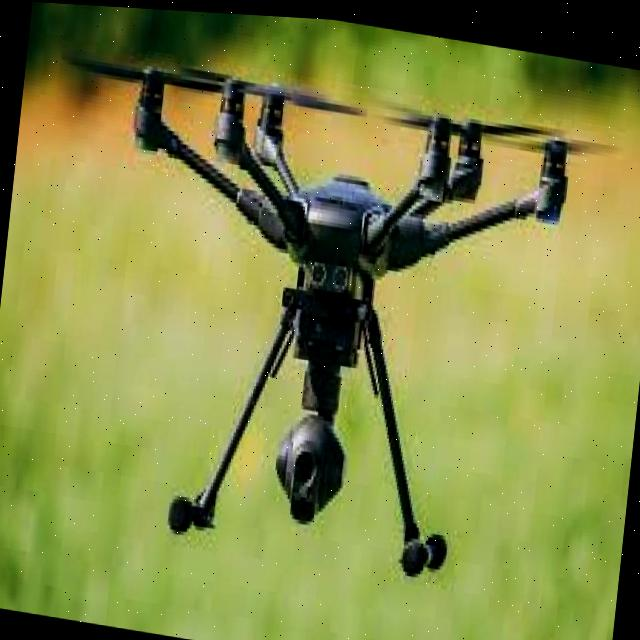drone: (34, 5, 636, 486)
